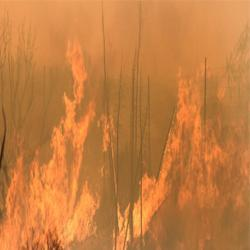fire: (2, 166, 86, 244), (179, 106, 218, 201), (59, 94, 89, 141)
